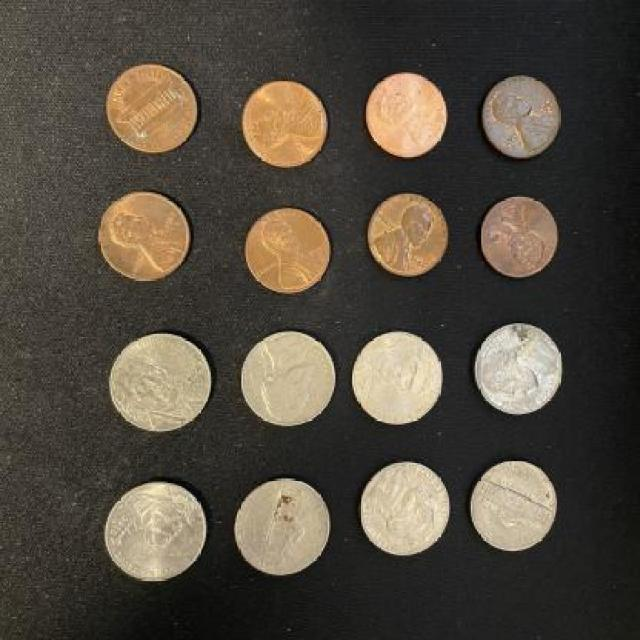Nickel: (110, 332, 216, 436), (104, 480, 208, 582), (242, 330, 338, 428), (235, 477, 331, 575), (358, 459, 452, 558), (352, 329, 446, 426), (469, 458, 558, 554), (474, 323, 563, 414)
Penny: (106, 61, 203, 156), (97, 189, 194, 282), (242, 204, 331, 296), (242, 80, 330, 168), (368, 190, 450, 282), (480, 70, 562, 158), (478, 194, 558, 282), (364, 74, 446, 158)
